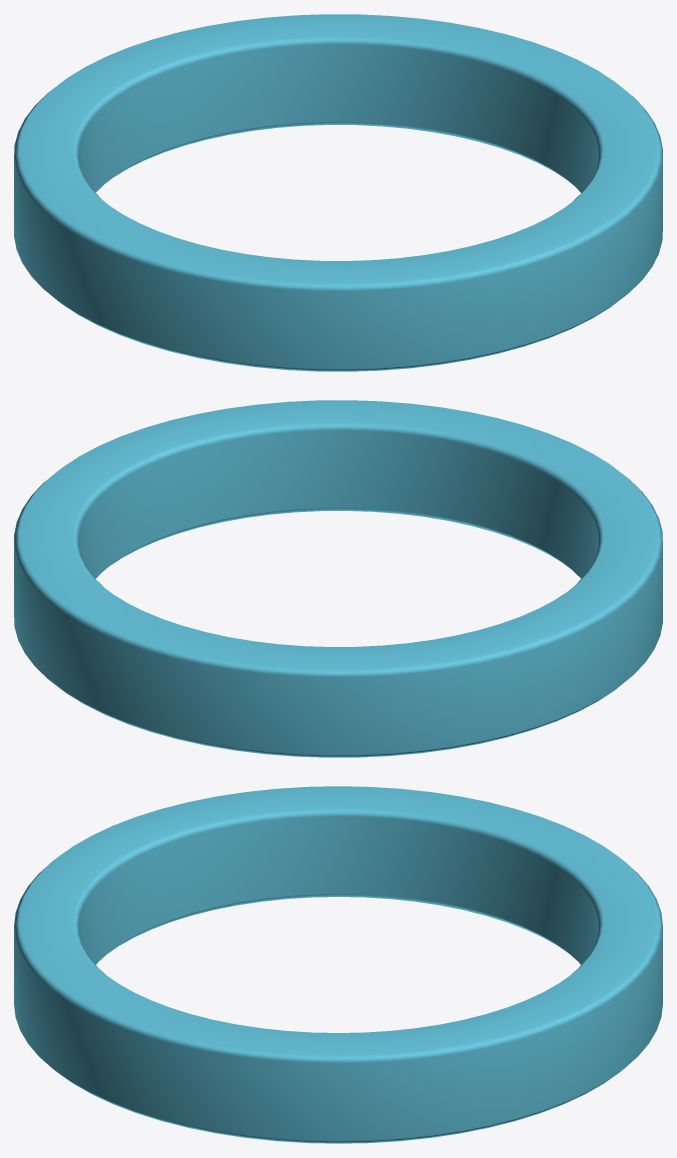
The picture shows the model from 3 angles, top to bottom: view 1: azimuth 30°, elevation 25°; view 2: azimuth 150°, elevation 25°; view 3: azimuth 270°, elevation 25°; orthographic projection.
Visible parts, largest first — view 1: seal_body; view 2: seal_body; view 3: seal_body.
Part boxes in pixels (x1,y1,x2,y2): seal_body: (14,14,662,371); seal_body: (14,400,662,757); seal_body: (14,786,662,1143).
Size of the model in its own units: 0.127 by 0.0191 by 0.127.
